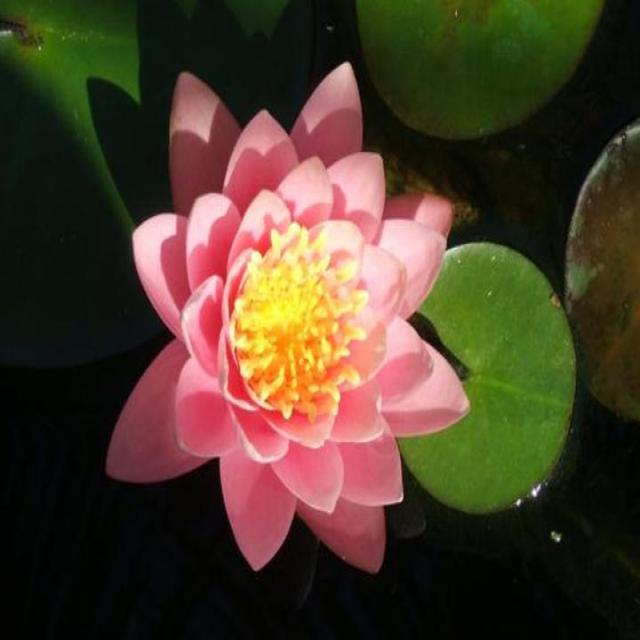rose: (102, 37, 540, 640)
